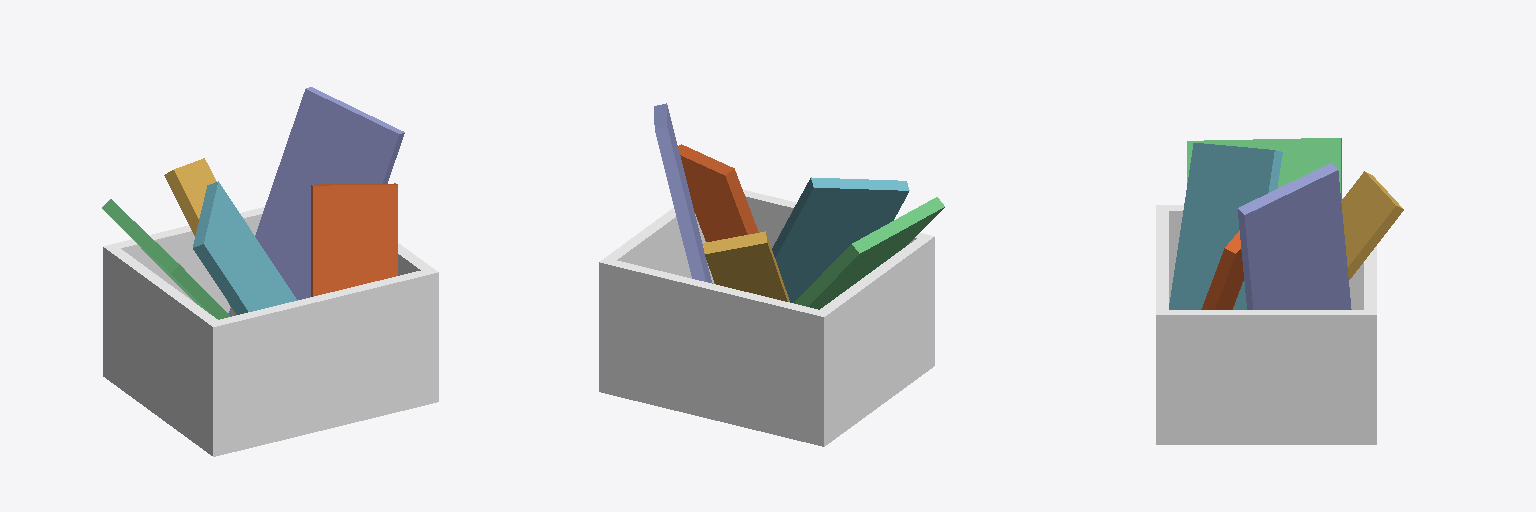
The model's file is snack2.obj.
3 views of the same model, side by side, from view 1: azimuth 30°, elevation 25°; view 2: azimuth 150°, elevation 25°; view 3: azimuth 270°, elevation 25° (orthographic).
Visible parts, largest first — view 1: Null.1; view 2: Null.1; view 3: Null.1.
Part boxes in pixels (bbox=[...]): Null.1: bbox=[102, 87, 438, 456]; Null.1: bbox=[599, 103, 944, 446]; Null.1: bbox=[1156, 138, 1403, 444].
Size of the model in its own units: 4.66 by 4.41 by 3.82.